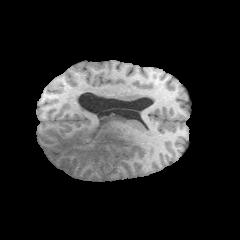glioma: (44, 115, 139, 171)
